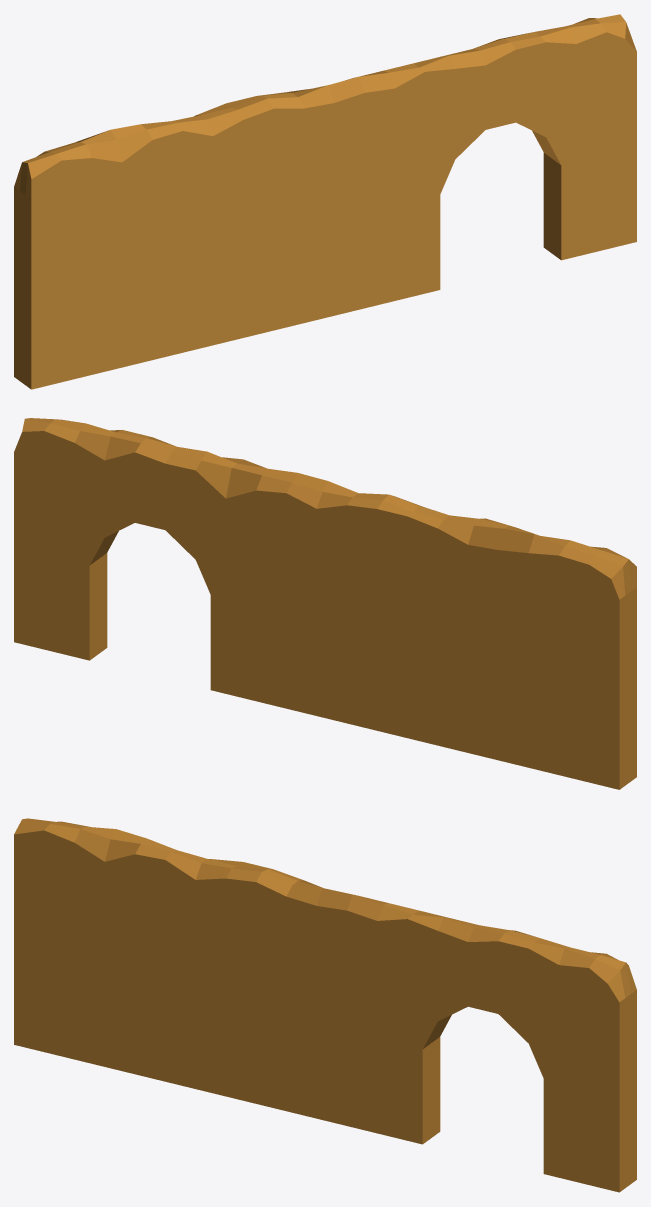
File: Arch2.fbx
3 views of the same model, one above another, from view 1: azimuth 30°, elevation 25°; view 2: azimuth 150°, elevation 25°; view 3: azimuth 330°, elevation 25° (orthographic).
Visible parts, largest first — view 1: Wall 1; view 2: Wall 1; view 3: Wall 1.
Boxes of the visible parts, <box> form: Wall 1: <box>14,14,636,389</box>; Wall 1: <box>14,418,636,789</box>; Wall 1: <box>14,818,636,1192</box>.
Bounding box in the file's own units: 400 × 145 × 20.
